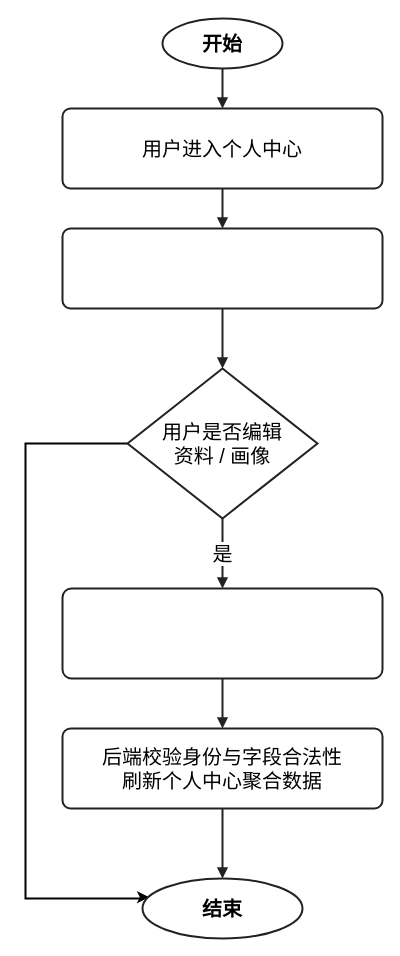
Some shapes in this 400 by 956 pixel diagram are drawn without their labels. The shapes that lost their labels are listed below. From the top down, each one's centre as x and y in pixels, then its label:
(x=222, y=268): 同步个人中心状态
(x=222, y=633): 提交资料或画像更新
